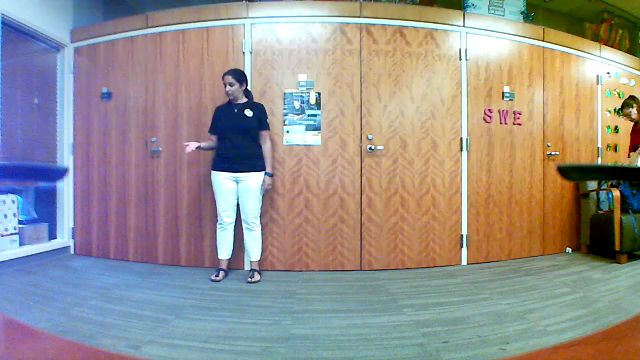land: (175, 134, 206, 157)
